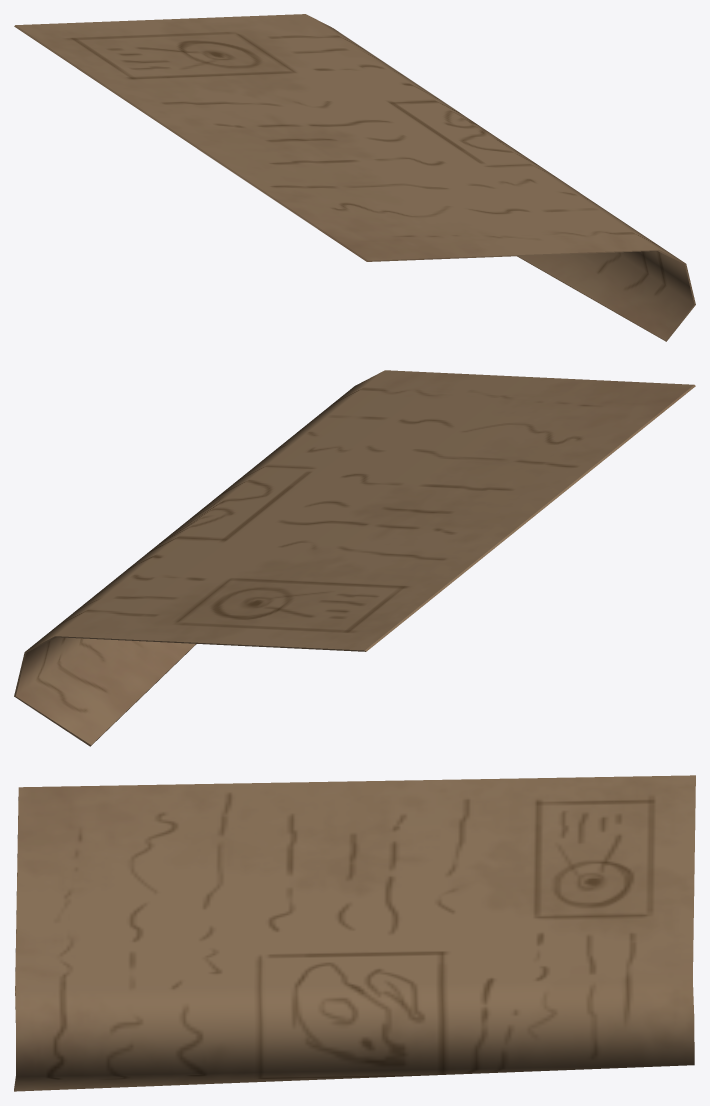
File: Book_Page1_Scaled.fbx
The picture shows the model from 3 angles, top to bottom: view 1: azimuth 30°, elevation 25°; view 2: azimuth 150°, elevation 25°; view 3: azimuth 270°, elevation 25°; orthographic projection. The views are drawn at different scales.
Parts seen in each view (by area): view 1: Page3; view 2: Page3; view 3: Page3.
Part boxes in pixels (x1,y1,x2,y2): Page3: [14, 14, 695, 341]; Page3: [14, 370, 695, 746]; Page3: [14, 775, 695, 1091].
Size of the model in its own units: 16.72 by 6.99 by 27.36.
